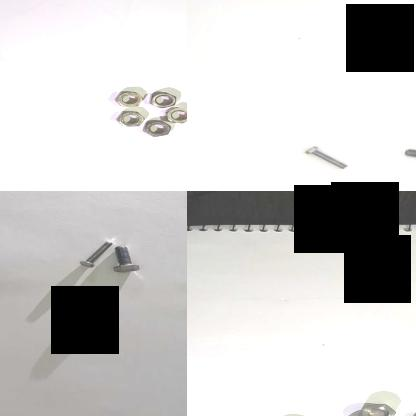Bolts: (300, 142, 350, 170), (69, 240, 113, 268), (110, 244, 141, 275), (399, 145, 416, 169)
NUTS: (112, 109, 150, 130), (146, 92, 179, 112), (110, 90, 145, 108), (140, 120, 174, 138), (355, 401, 394, 416), (163, 105, 187, 125)
